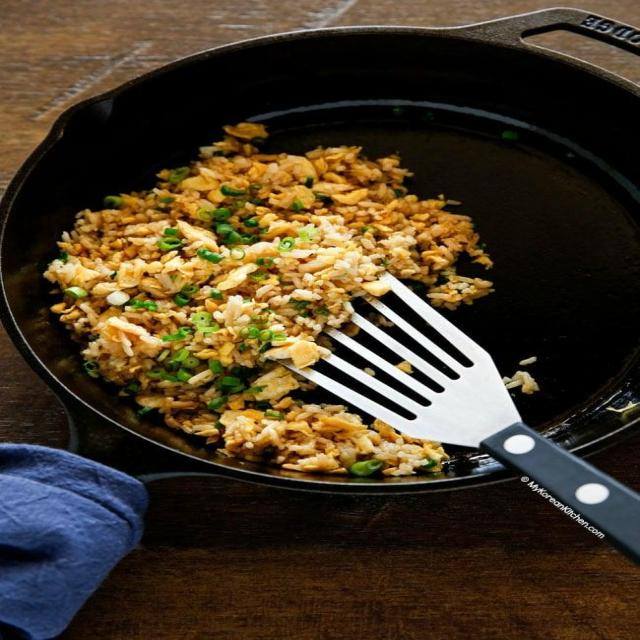Nasi Goreng: (42, 120, 503, 477)
